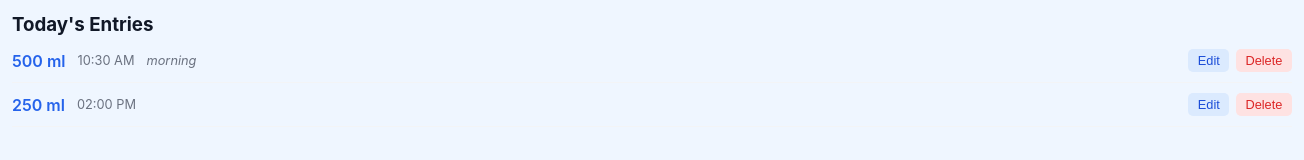
EntryList › switches to edit mode when Edit is clicked
Click the button "Edit" in the row of "morning": click(1209, 61) [1188, 49, 1230, 72]
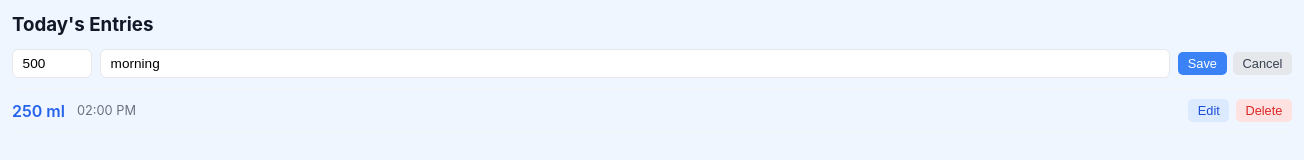
expect the button "Save" is shown: met, box [1178, 52, 1227, 75]
expect the button "Cancel" is shown: met, box [1233, 52, 1292, 75]
